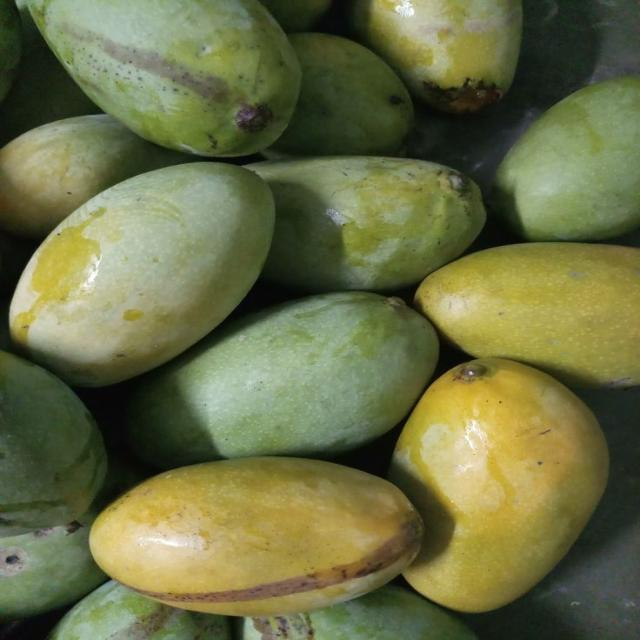mango: (10, 162, 273, 386), (389, 359, 608, 612), (127, 292, 438, 468), (90, 457, 422, 616), (29, 0, 299, 156), (415, 243, 639, 386), (249, 157, 485, 292), (0, 453, 143, 623), (491, 77, 639, 240), (0, 115, 189, 238), (0, 353, 106, 537), (350, 0, 522, 113), (265, 33, 413, 157), (0, 0, 99, 144), (238, 584, 476, 639), (0, 507, 106, 622), (48, 581, 231, 639), (260, 0, 332, 32), (0, 0, 22, 102)
